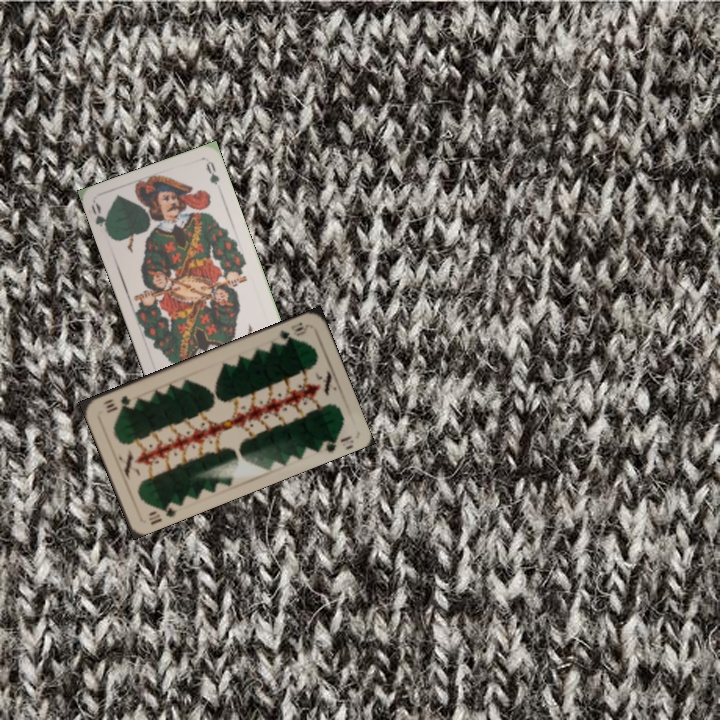G10: (145, 498, 179, 527), (275, 320, 311, 343)
GO: (91, 199, 111, 238)
